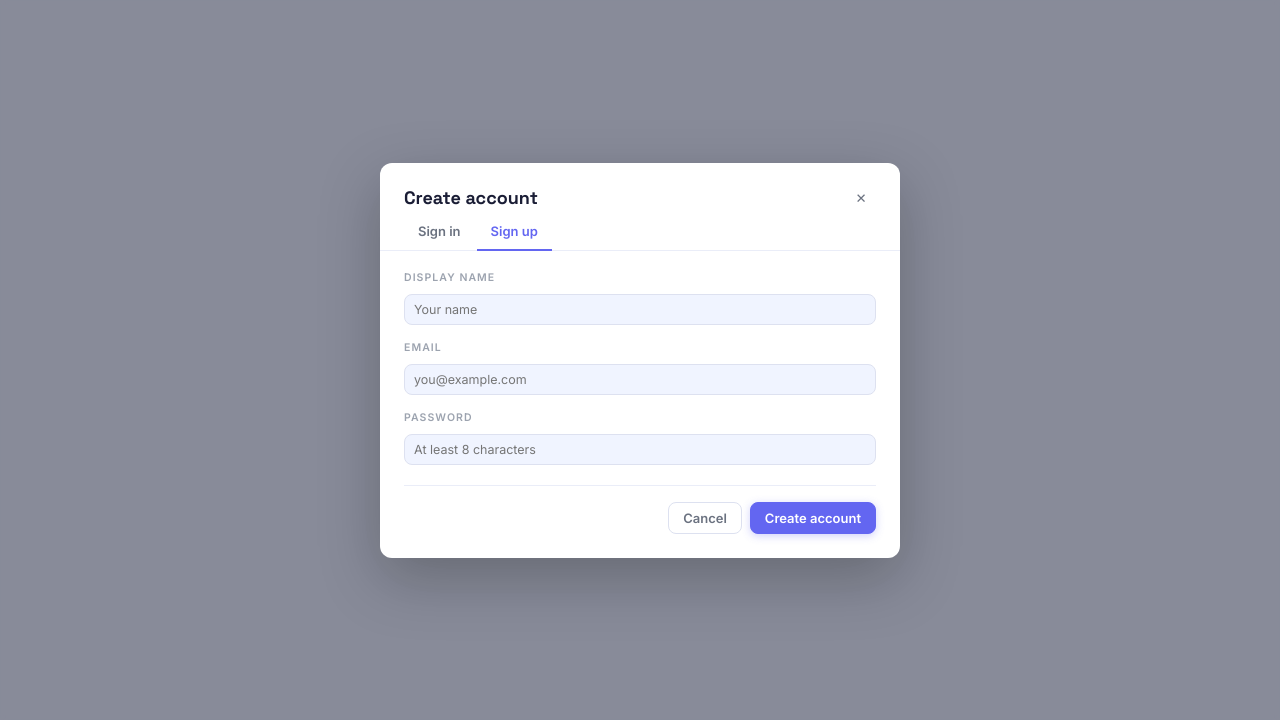
AuthModal › client-side validation › shows error when signup display name is missing
The width and height of the screenshot is (1280, 720).
Type "a@b.com" into the field labelled "Email" at x=640, y=379, box x1=404 y1=364 x2=876 y2=394
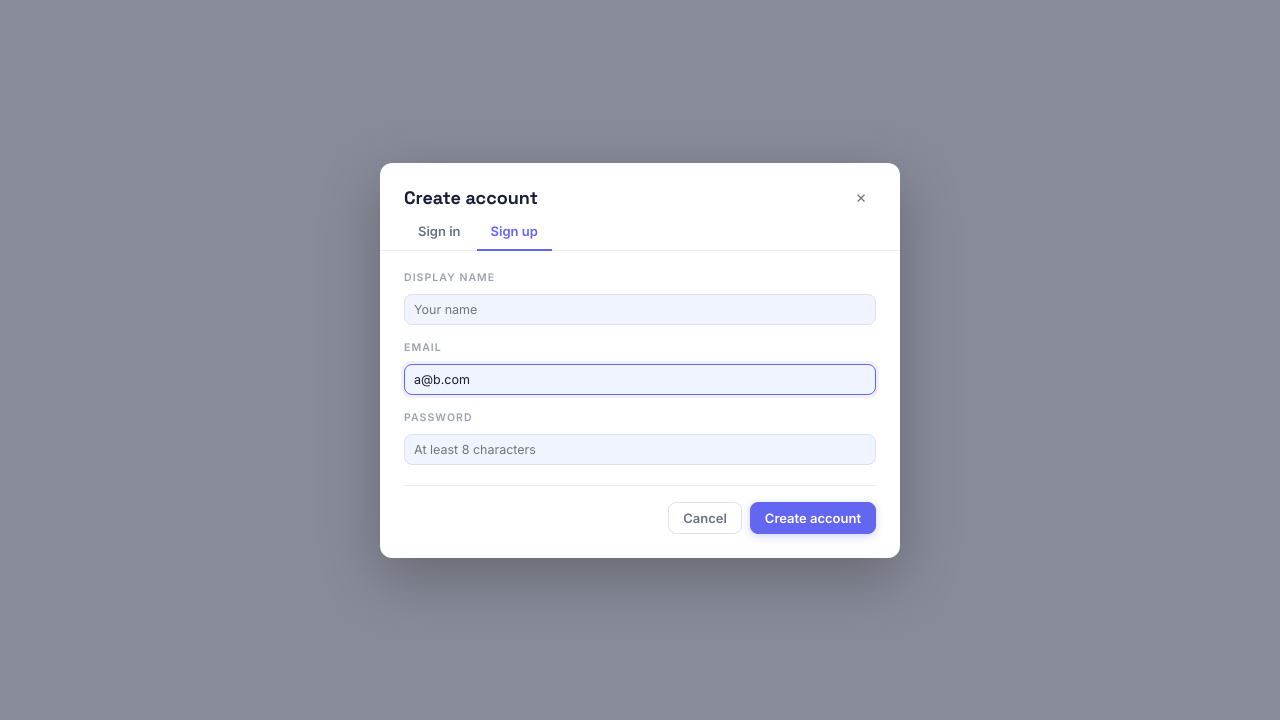
Type "password123" into the password field labelled "Password" at x=640, y=449, box x1=404 y1=434 x2=876 y2=464
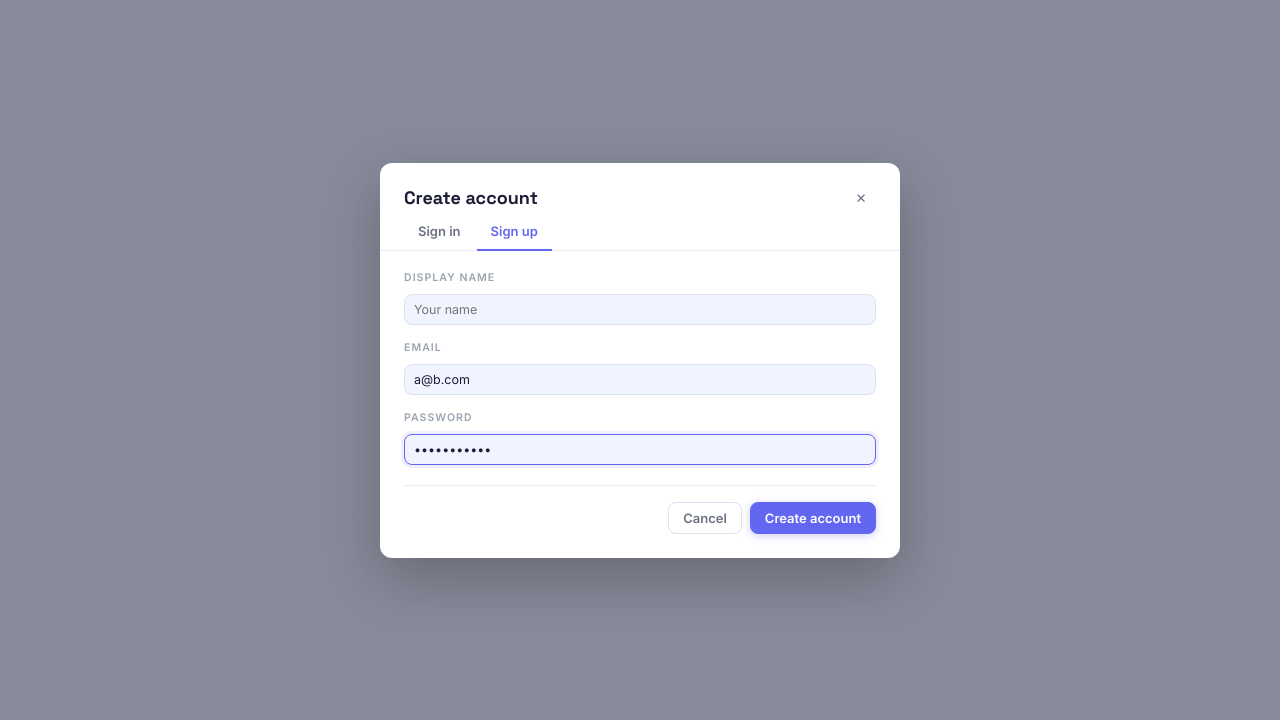
Submit the form, box x1=380 y1=250 x2=900 y2=558
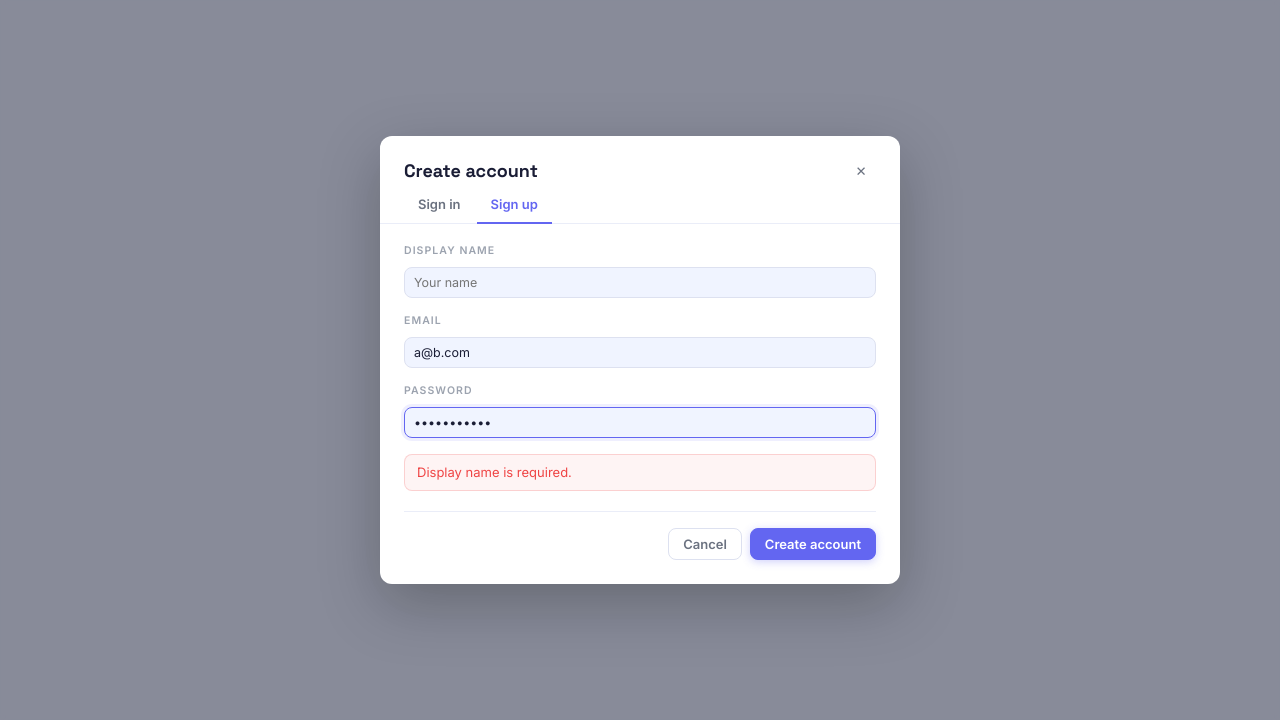
Check: the text "Display name is required." is shown, box x1=404 y1=454 x2=876 y2=491
